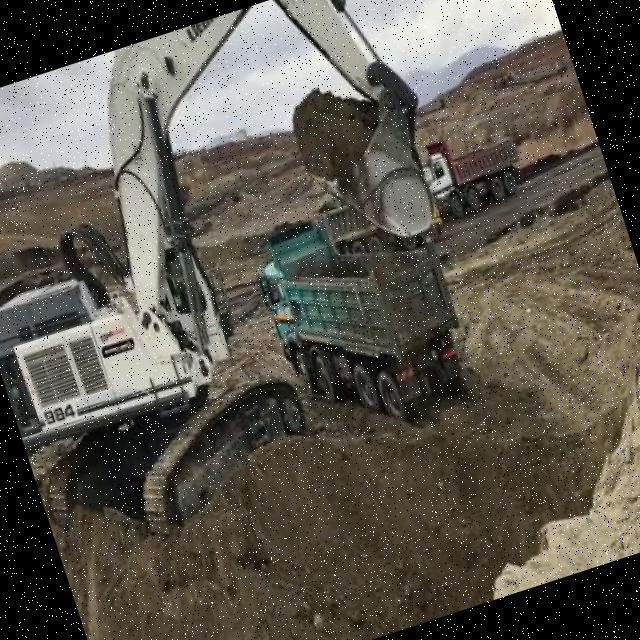Dump Truck: (243, 176, 487, 456), (422, 120, 531, 218)
Excavator: (0, 0, 527, 578)
